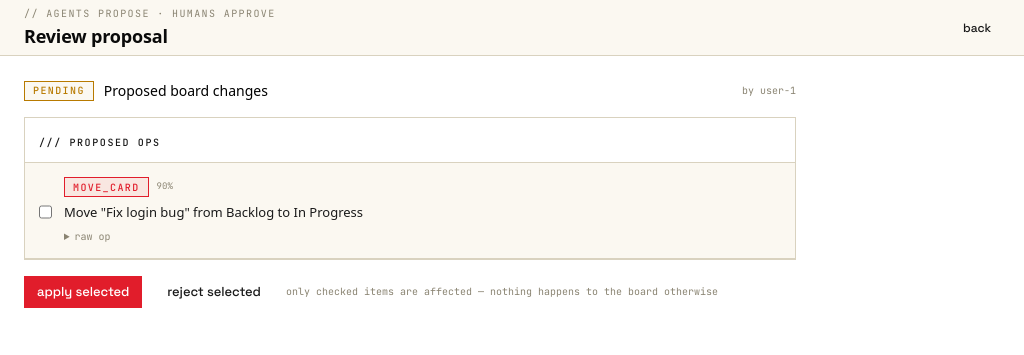
Scenario: ChangeSetReview › apply: surfaces a message instead of an unhandled rejection when the network request fails
The image size is (1024, 355).
Click the checkbox named "select:". click: coordinates (46, 212)
box: [39,180,52,244]
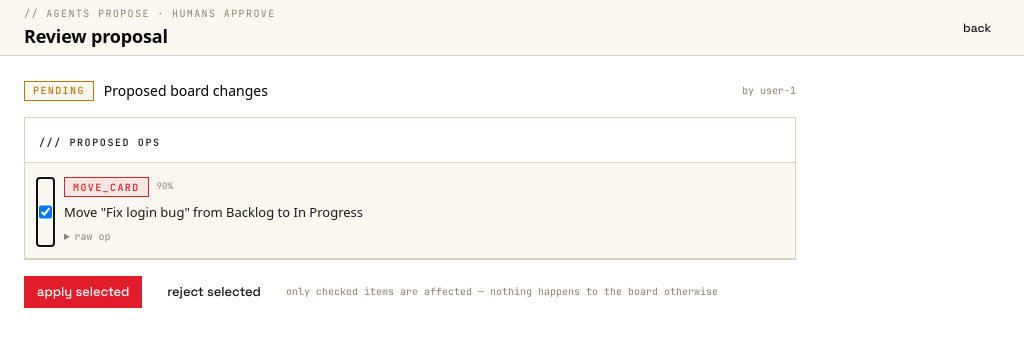
Click the button "apply selected". click: coordinates (83, 292)
box: [24,276,142,308]
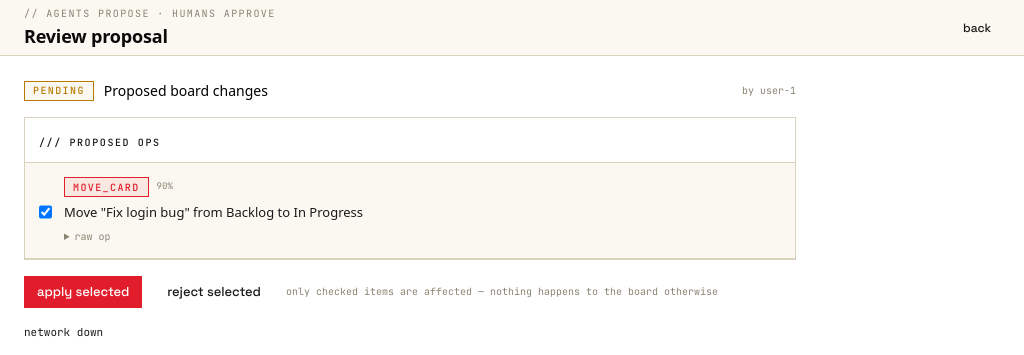
Check: the text "network down" is shown, box [24,324,103,338]
